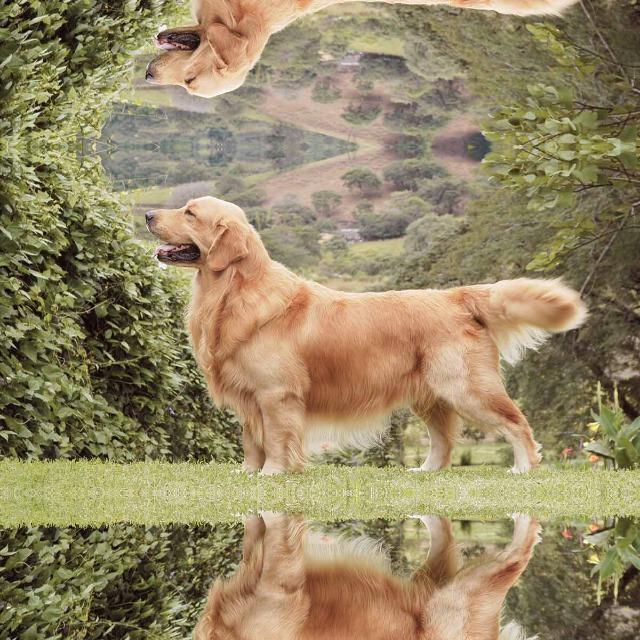dog: (148, 193, 570, 482), (147, 503, 570, 640), (147, 0, 570, 98)
